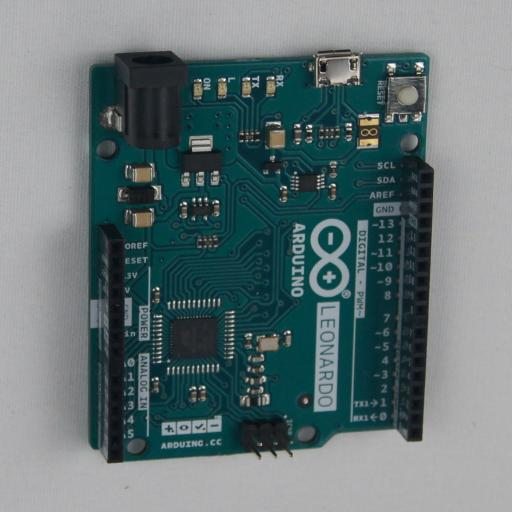Arduino Leonardo: (88, 49, 434, 463)
